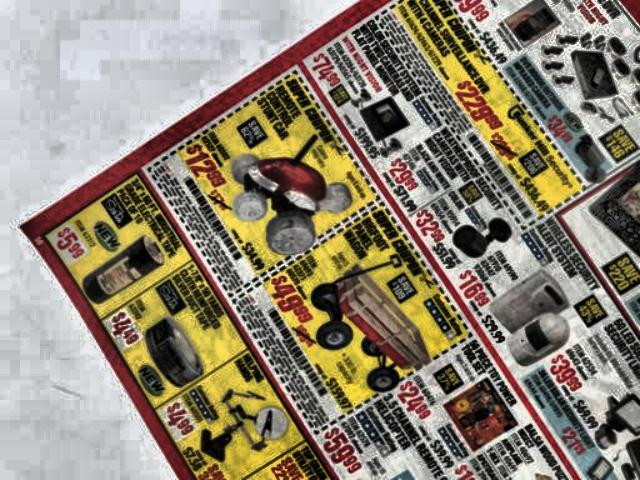Paper: (27, 0, 640, 480)
